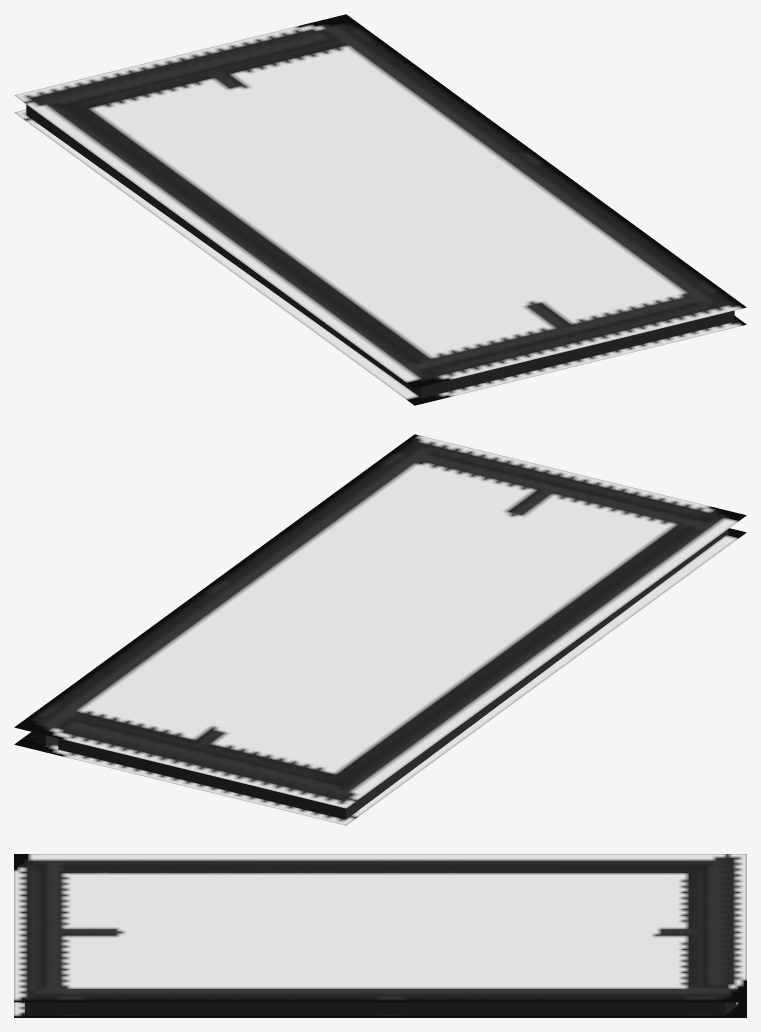
File: pz_native_fixtures_windows_metal_99_frame.obj
3 views of the same model, one above another, from view 1: azimuth 30°, elevation 25°; view 2: azimuth 150°, elevation 25°; view 3: azimuth 270°, elevation 25° (orthographic). The views are drawn at different scales.
Parts seen in each view (by area): view 1: pz_native_fixtures_windows_metal_99_frame; view 2: pz_native_fixtures_windows_metal_99_frame; view 3: pz_native_fixtures_windows_metal_99_frame.
Boxes of the visible parts, x1=… form: pz_native_fixtures_windows_metal_99_frame: x1=14, y1=14, x2=746, y2=405; pz_native_fixtures_windows_metal_99_frame: x1=14, y1=434, x2=746, y2=825; pz_native_fixtures_windows_metal_99_frame: x1=14, y1=854, x2=746, y2=1017.
Size of the model in its own units: 0.8125 by 0.04 by 1.7.
1 material, 1 textured.
